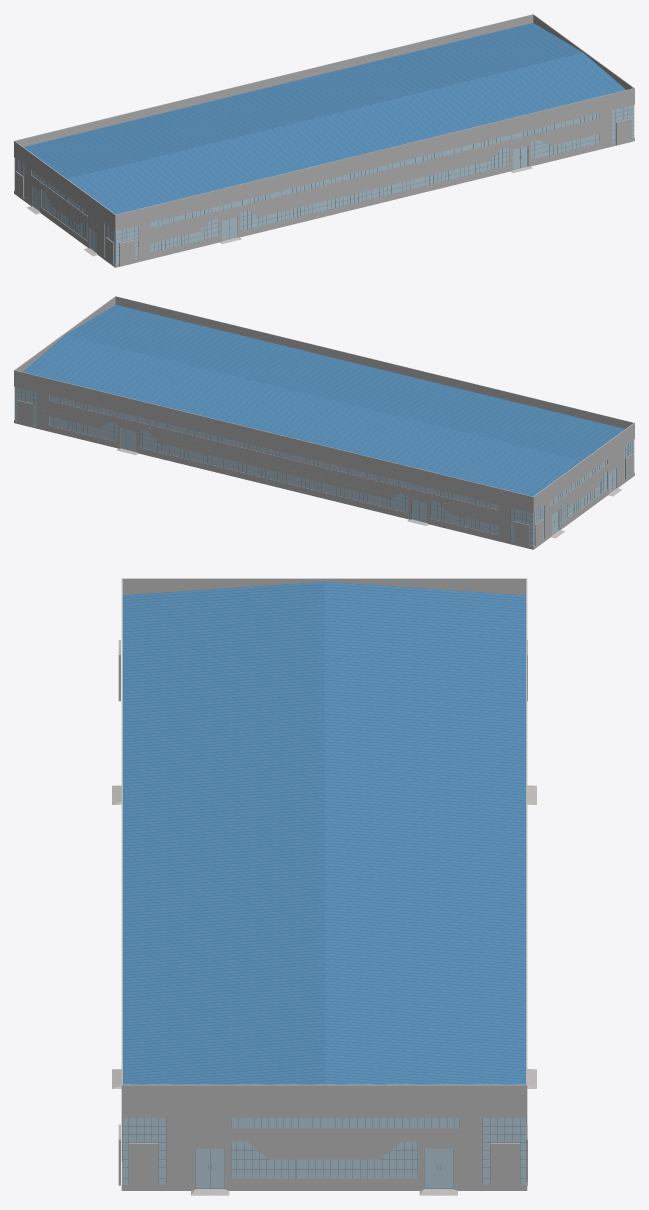
Rendered from Demo1.gltf.
The picture shows the model from 3 angles, top to bottom: view 1: azimuth 30°, elevation 25°; view 2: azimuth 150°, elevation 25°; view 3: azimuth 270°, elevation 25°; orthographic projection. The views are drawn at different scales.
Visible parts, largest first — view 1: 厂房24; view 2: 厂房24; view 3: 厂房24.
Part boxes in pixels (x1=…): 厂房24: x1=14, y1=14, x2=634, y2=267; 厂房24: x1=14, y1=296, x2=634, y2=549; 厂房24: x1=112, y1=578, x2=536, y2=1195.
Bounding box in the file's own units: 122 × 11.64 × 42.46.
Materials: 7 (3 with a texture image).
